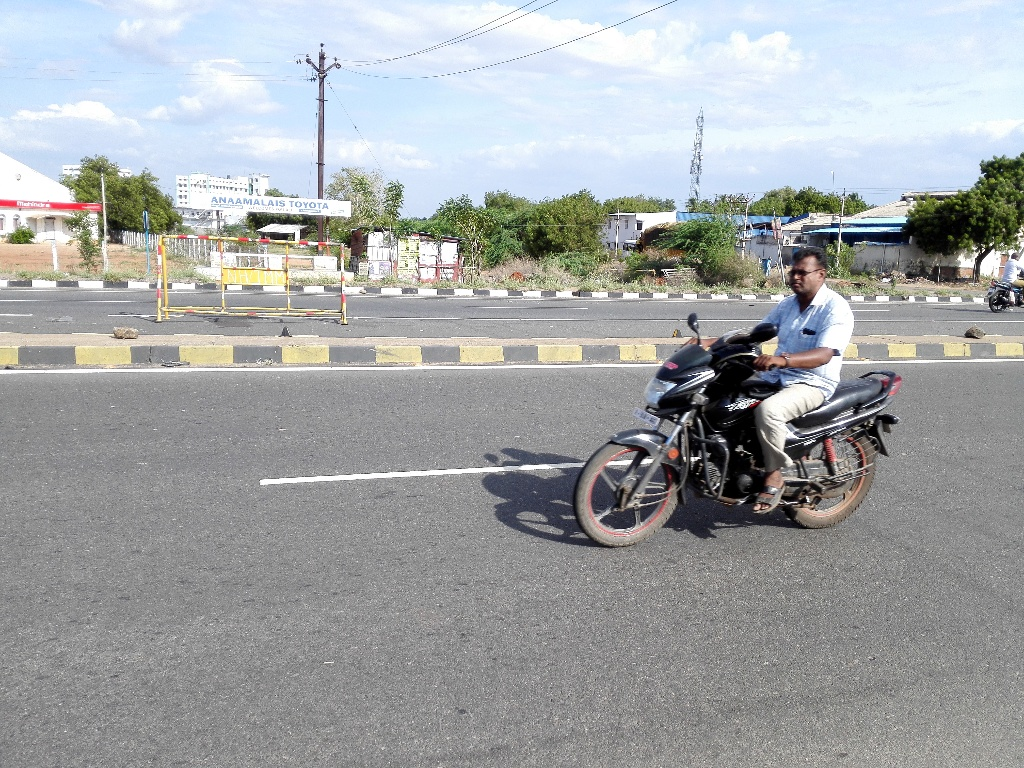biker: (558, 225, 929, 557)
nohelmet: (782, 231, 847, 311)
